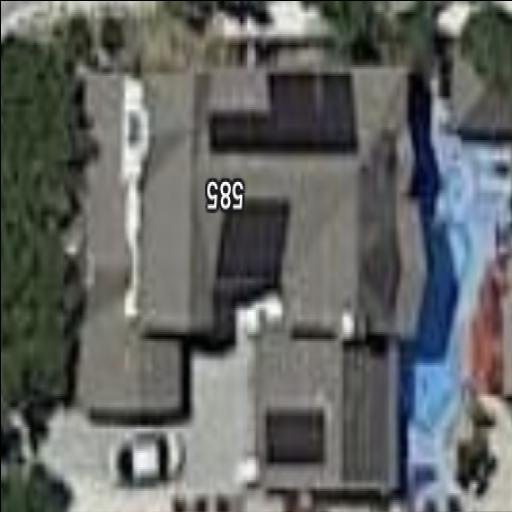Solar-Slope-Roof: (131, 59, 414, 331), (250, 341, 401, 489)
